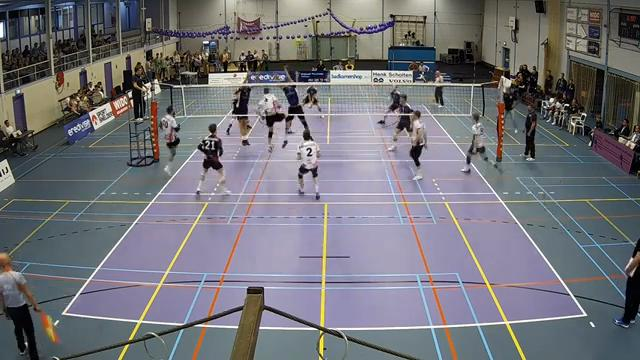attacco: (252, 86, 294, 156)
muro: (271, 66, 316, 149), (232, 70, 253, 149)
